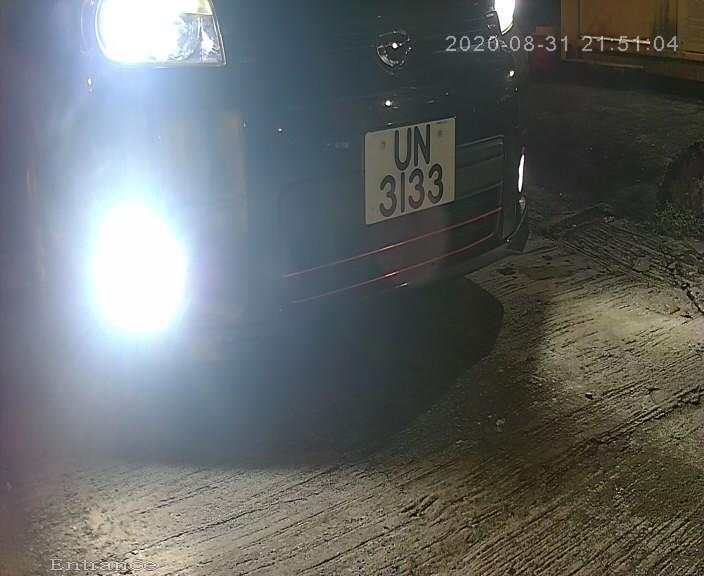License Plate: (356, 101, 466, 242)
